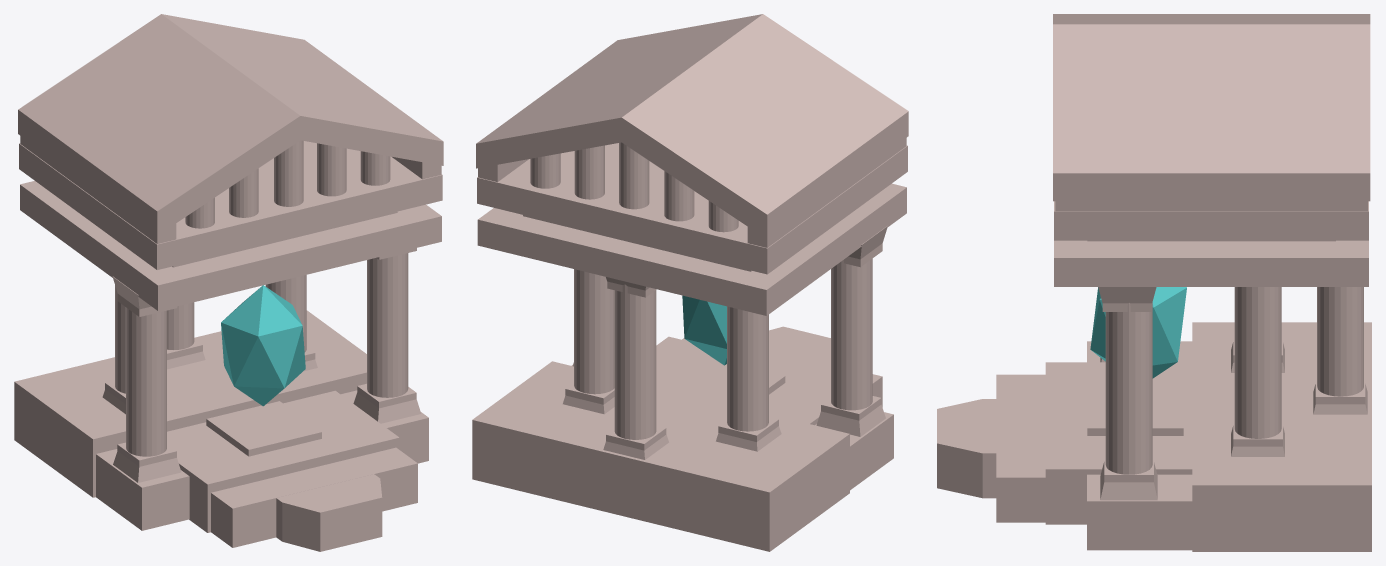
File: Portal.fbx
The picture shows the model from 3 angles, left to right: view 1: azimuth 30°, elevation 25°; view 2: azimuth 150°, elevation 25°; view 3: azimuth 270°, elevation 25°; orthographic projection. The views are drawn at different scales.
Visible parts, largest first — view 1: Portal; view 2: Portal; view 3: Portal.
Boxes of the visible parts, bbox=[...] form: Portal: bbox=[14, 14, 443, 551]; Portal: bbox=[472, 14, 908, 551]; Portal: bbox=[937, 14, 1371, 551].
Bounding box in the file's own units: 344 × 305 × 390.
